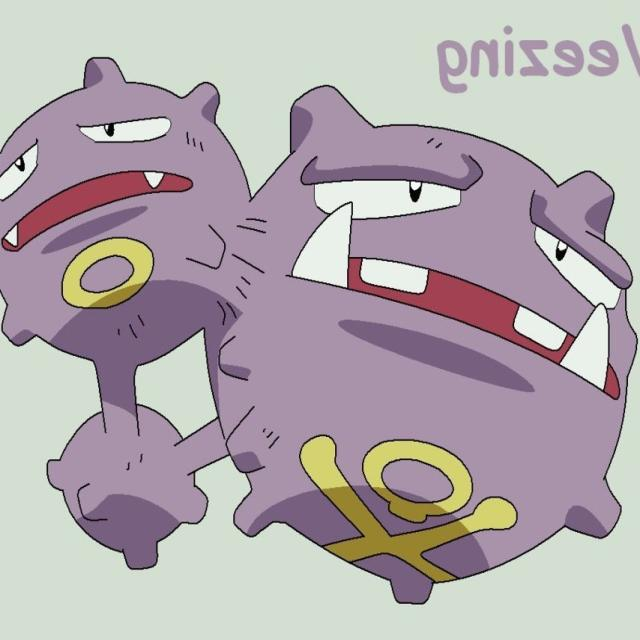Weezing: (0, 111, 620, 546)
